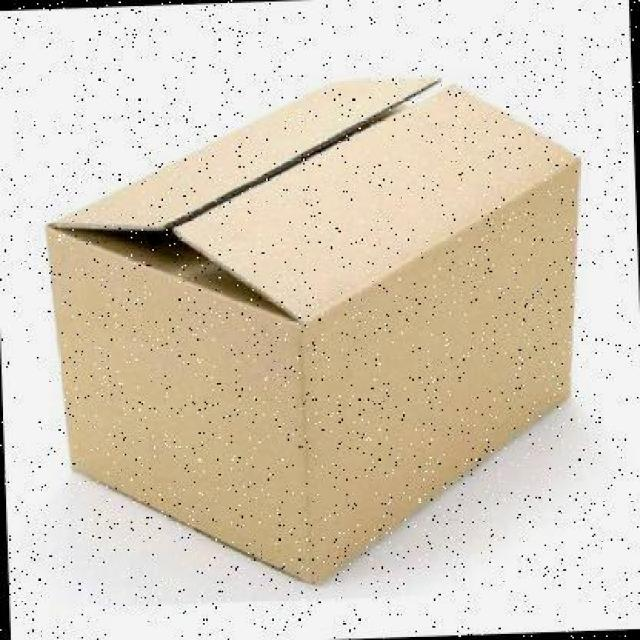box: (45, 76, 581, 588)
opened: (45, 77, 581, 327)
